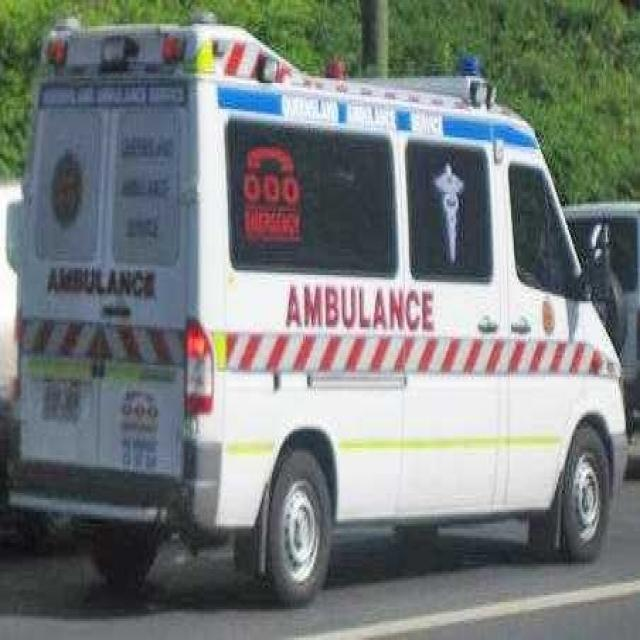emergency-vehicle: (14, 12, 629, 600)
